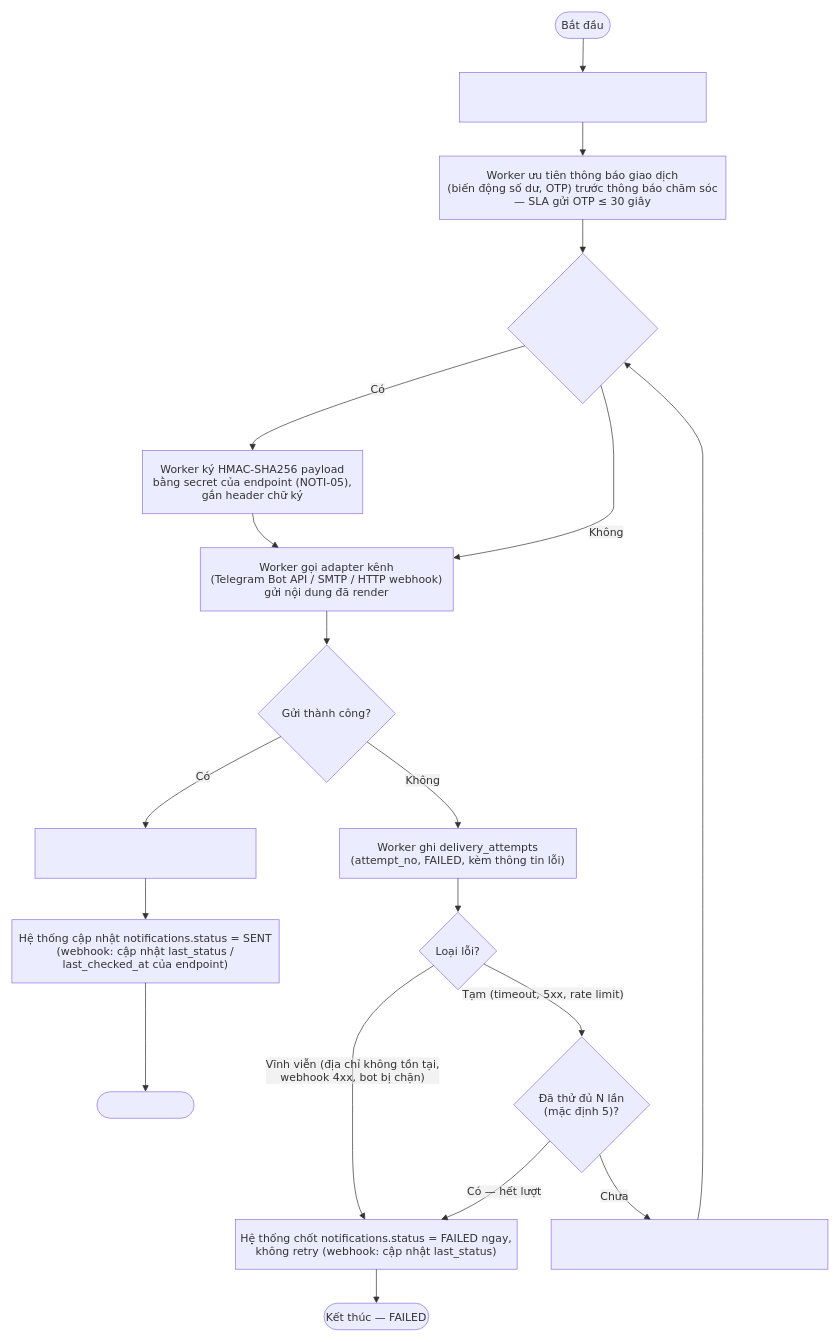
Some shapes in this 840 by 1342 pixel diagram are drawn without their labels. Each missing label, with the box of its shape:
Hệ thống hẹn lần thử kế theo backoff lũy tiến (1 phút, 5 phút, 30 phút…): (550, 1219, 828, 1269)
Kênh là webhook?: (507, 253, 658, 404)
Kết thúc — SENT: (96, 1091, 194, 1118)
Worker ghi delivery_attempts (attempt_no tăng liên tục, SUCCESS): (34, 828, 256, 878)
Worker quét idx_noti_pending, lấy lô thông báo PENDING theo thứ tự tạo: (459, 72, 706, 122)
